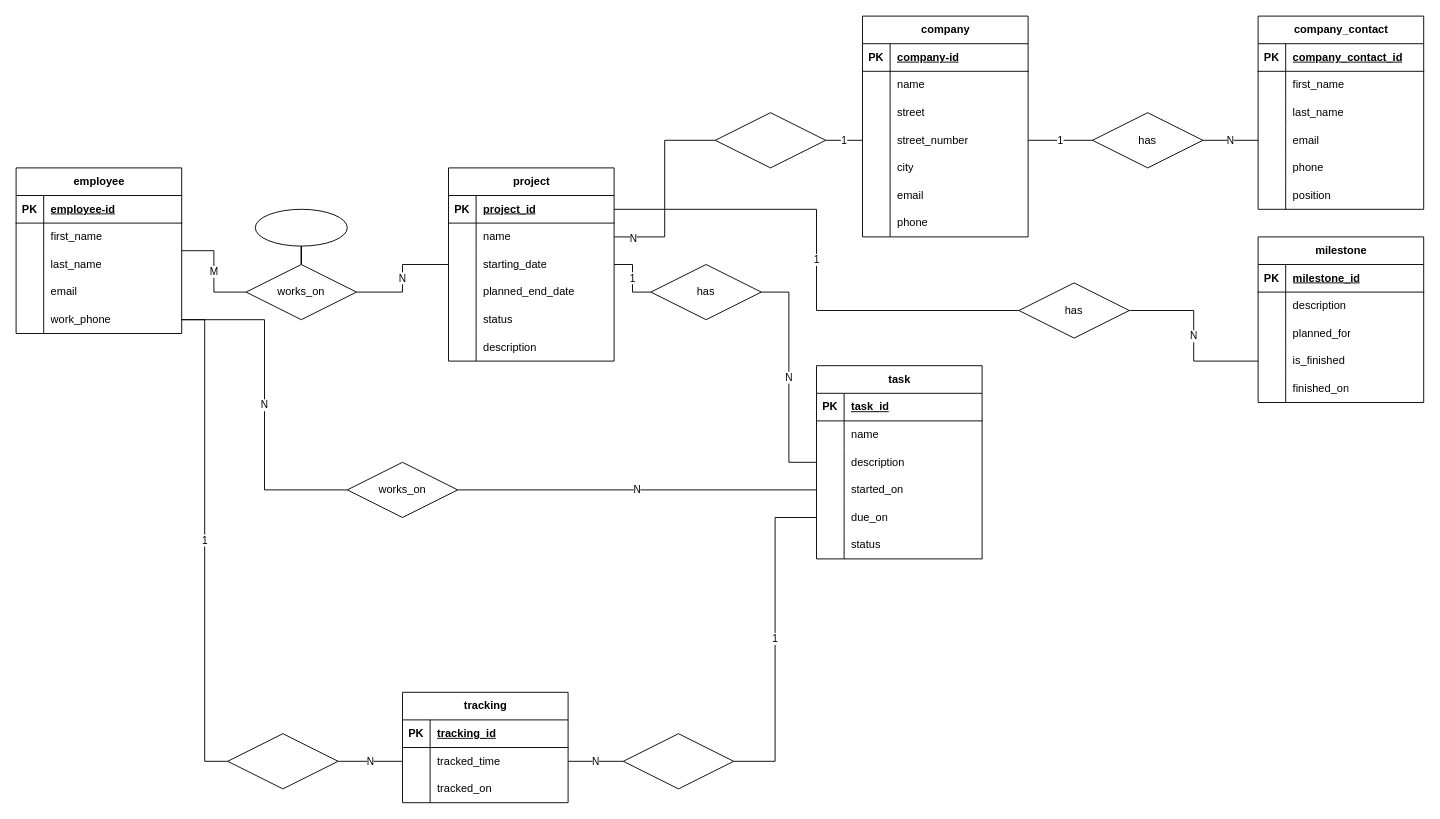
This 1440x819 diagram has some shape labels left out. Each missing label, with the centre of its shape:
"belongs_to" goes at pixel 678 761.
"gives_in_order" goes at pixel 770 140.
"role" goes at pixel 300 227.
"tracks" goes at pixel 282 761.
